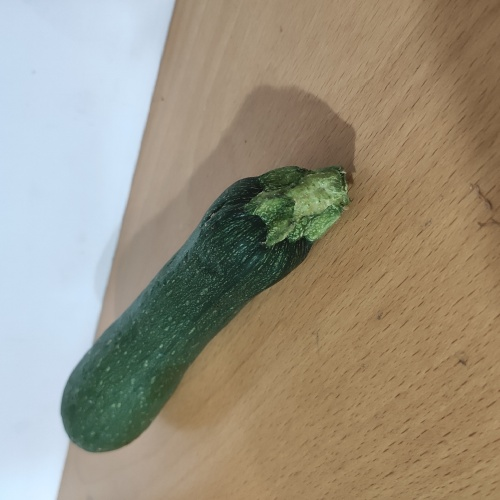zucchine: (66, 163, 350, 451)
